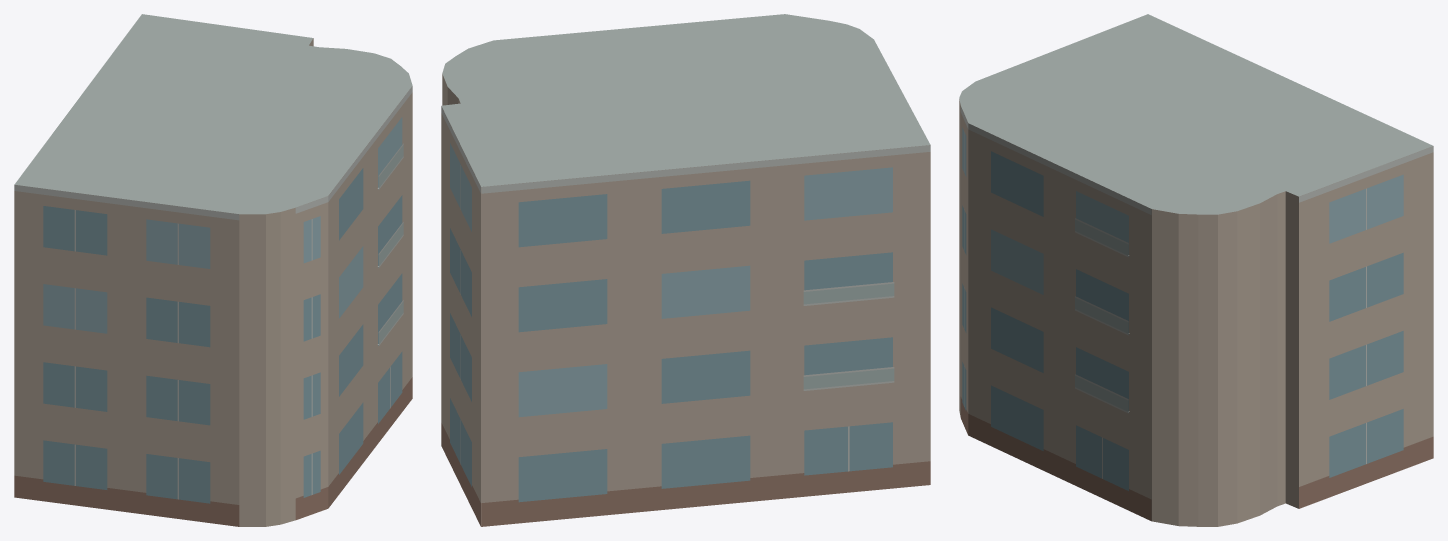
Rendered from survey-upis-32921762.glb.
The picture shows the model from 3 angles, left to right: view 1: azimuth 30°, elevation 25°; view 2: azimuth 150°, elevation 25°; view 3: azimuth 270°, elevation 25°; orthographic projection. The views are drawn at different scales.
Parts seen in each view (by area): view 1: survey-upis-32921762.tmp; view 2: survey-upis-32921762.tmp; view 3: survey-upis-32921762.tmp.
Boxes of the visible parts, bbox=[...] form: survey-upis-32921762.tmp: bbox=[14, 14, 412, 526]; survey-upis-32921762.tmp: bbox=[441, 14, 930, 526]; survey-upis-32921762.tmp: bbox=[959, 14, 1433, 526].
Size of the model in its own units: 16.81 by 12.2 by 16.8.
